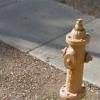Hydrant: (53, 8, 95, 100)
